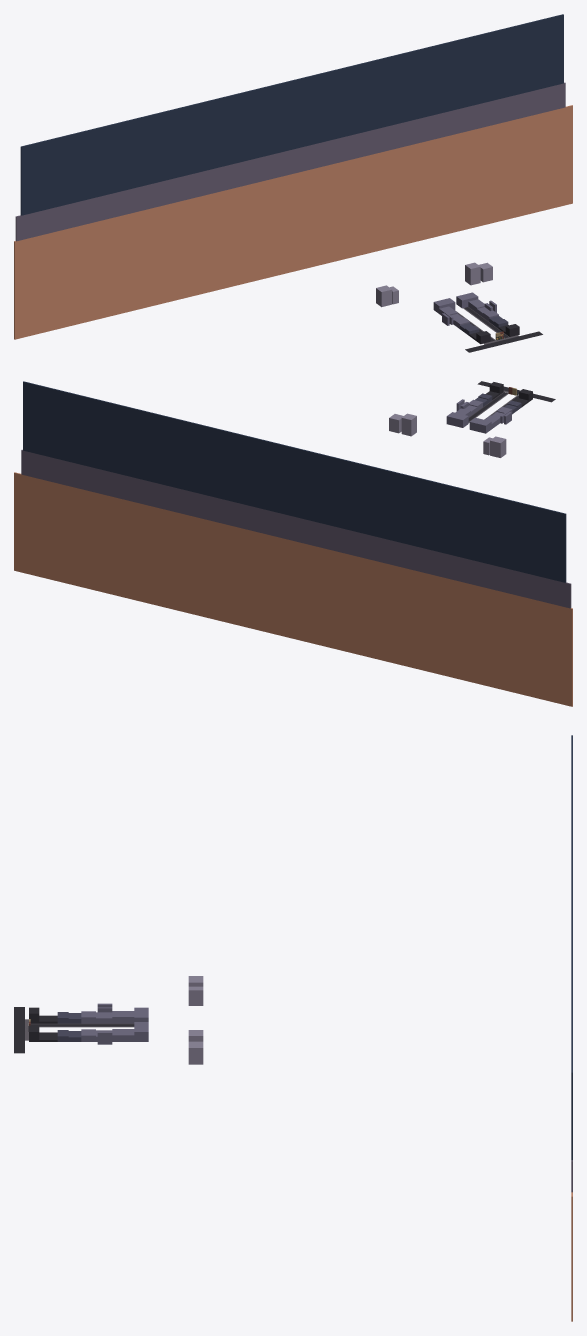
File: high-street.glb
3 renders of one model, top to bottom at view 1: azimuth 30°, elevation 25°; view 2: azimuth 150°, elevation 25°; view 3: azimuth 270°, elevation 25°, orthographic. The views are drawn at different scales.
Parts seen in each view (by area): view 1: sky, city; view 2: sky, city; view 3: city, sky.
Boxes of the visible parts, bbox=[...] form: sky: bbox=[14, 14, 572, 339]; city: bbox=[376, 262, 519, 344]; sky: bbox=[14, 381, 572, 706]; city: bbox=[389, 382, 532, 457]; city: bbox=[29, 976, 203, 1064]; sky: bbox=[571, 735, 572, 1321].
Size of the model in its own units: 451 by 147 by 307.
